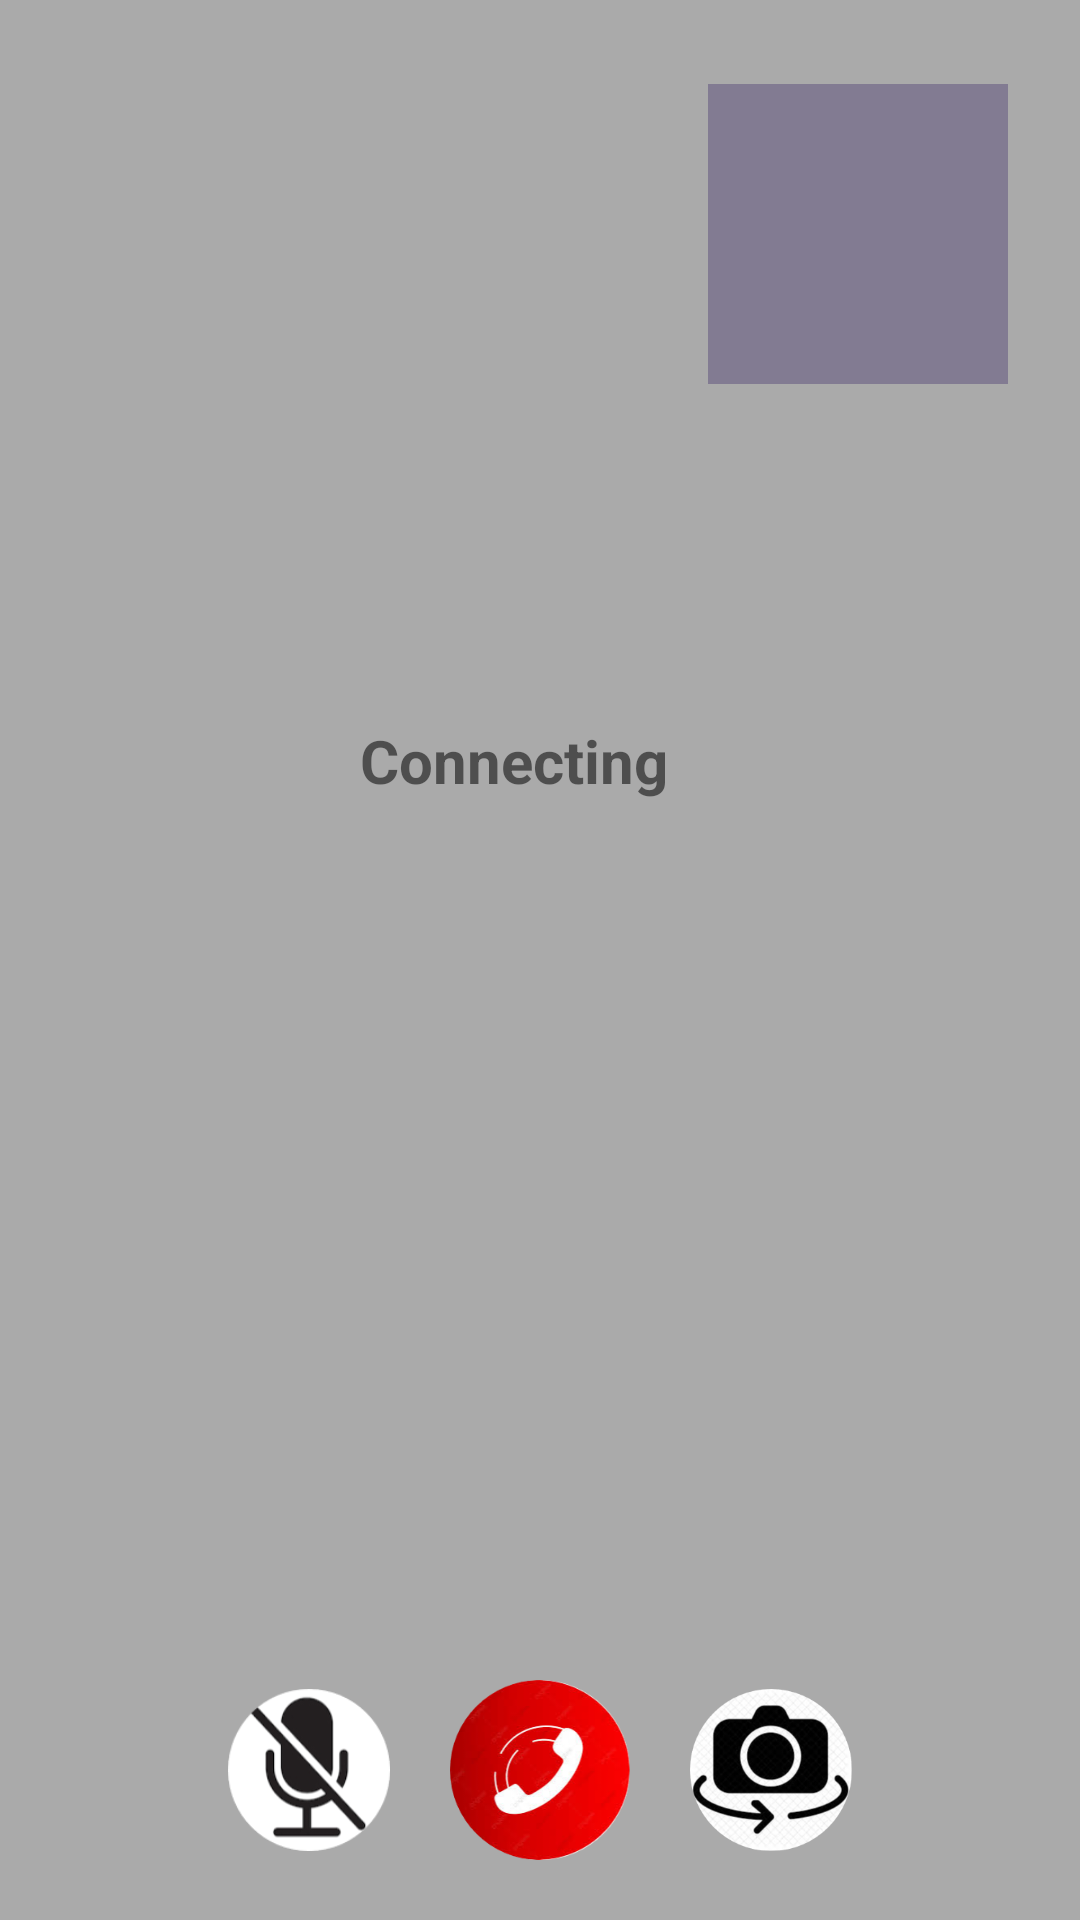

Icon bounding boxes for this 1080px x 1920px phone screenshot, format (x1, y1, x2, y2):
cutbtn: (450, 1680, 630, 1860)
rotatecamerabtn: (690, 1689, 852, 1851)
unmutebtn: (228, 1689, 390, 1851)
